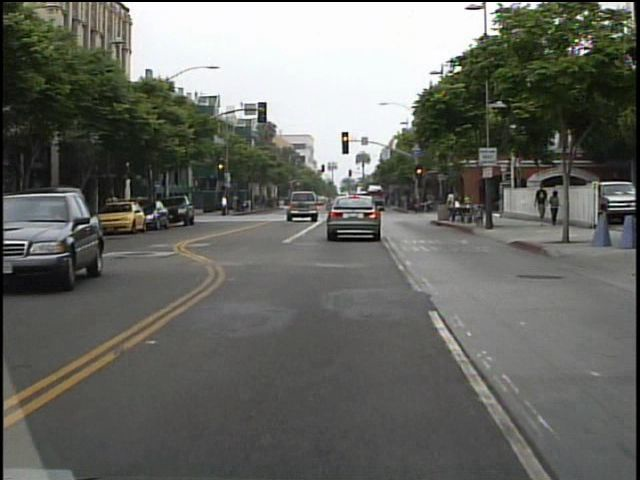person: (532, 182, 549, 226), (443, 188, 462, 225), (546, 187, 563, 228), (218, 190, 232, 218)
